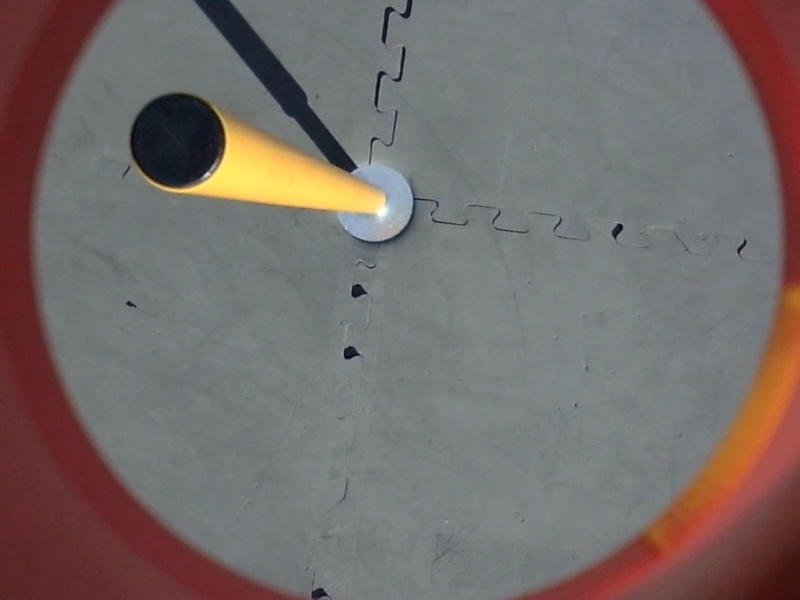tip: (127, 87, 231, 196)
